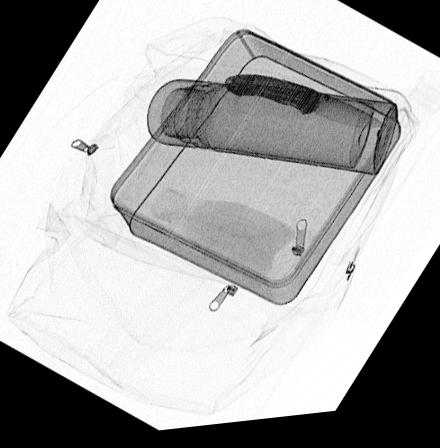Knife: (219, 76, 390, 139)
